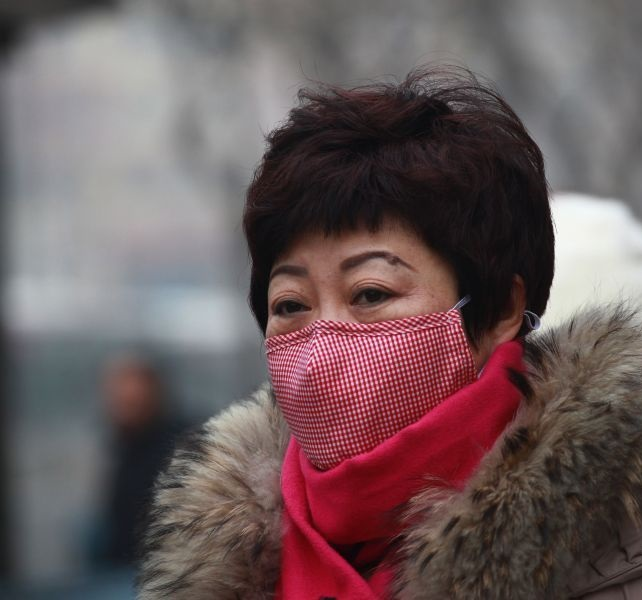face_mask: (256, 196, 470, 465)
